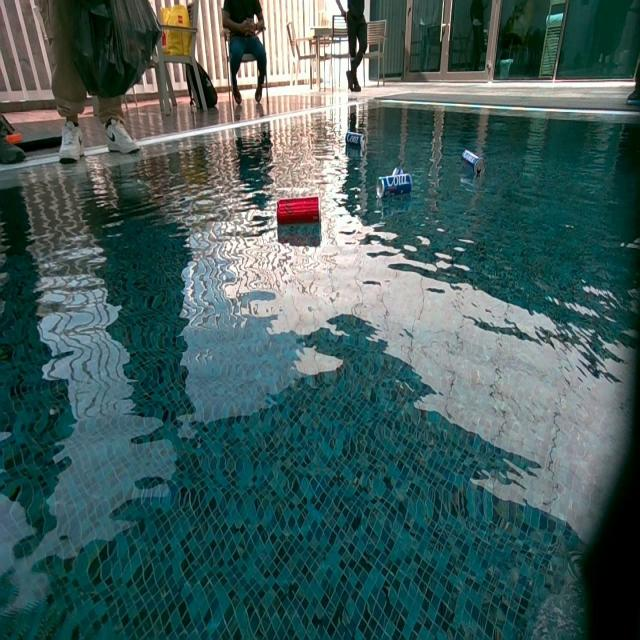Cans: (278, 199, 321, 226), (377, 170, 413, 200), (460, 152, 484, 178), (346, 132, 366, 150)
